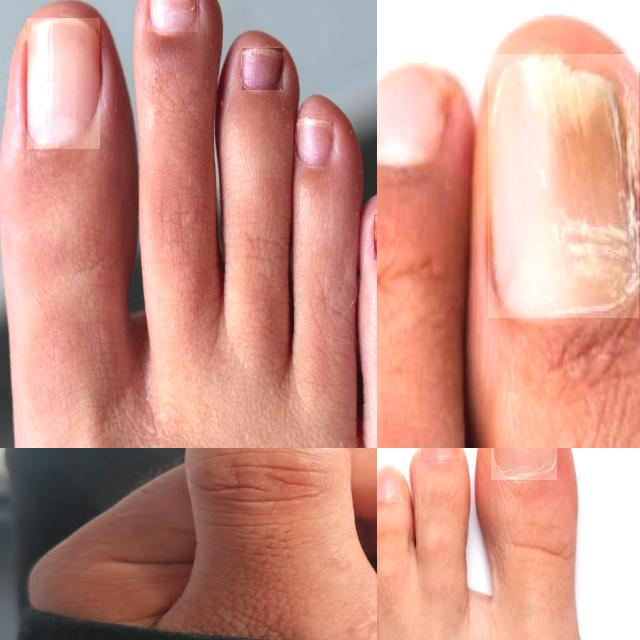diabetes: (489, 54, 639, 318), (494, 448, 557, 480), (149, 0, 198, 32), (377, 466, 404, 502), (421, 448, 459, 461)
sehat: (27, 18, 100, 149), (242, 48, 283, 90), (296, 123, 332, 166)
